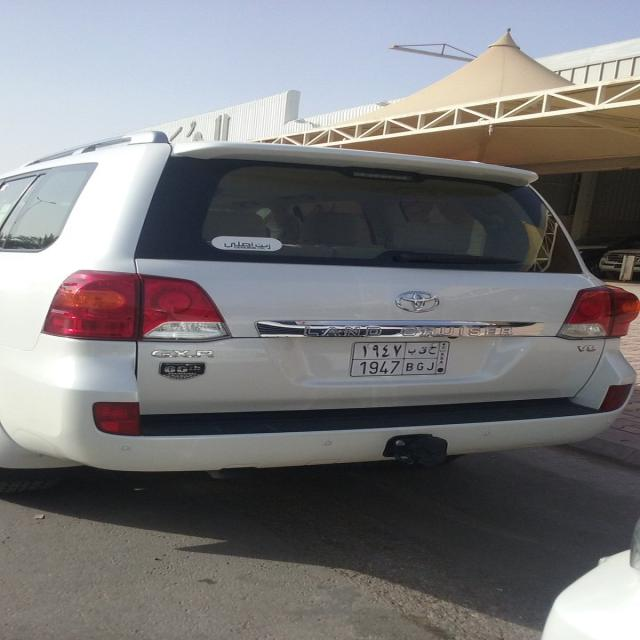license_plate: (348, 341, 451, 377)
